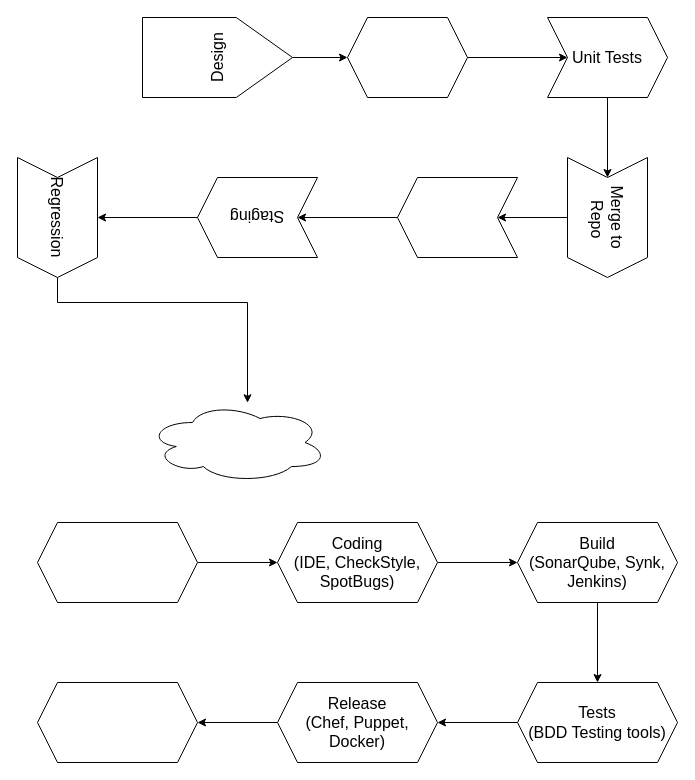
Some shapes in this 695 by 780 pixel diagram are drawn without their labels. Each missing label, with the centre of its shape:
Build: [407,57]
Deployment: [237,442]
Design and Plan (Jira Software): [117,562]
Integration Tests: [457,217]
Security (Halo): [117,722]
